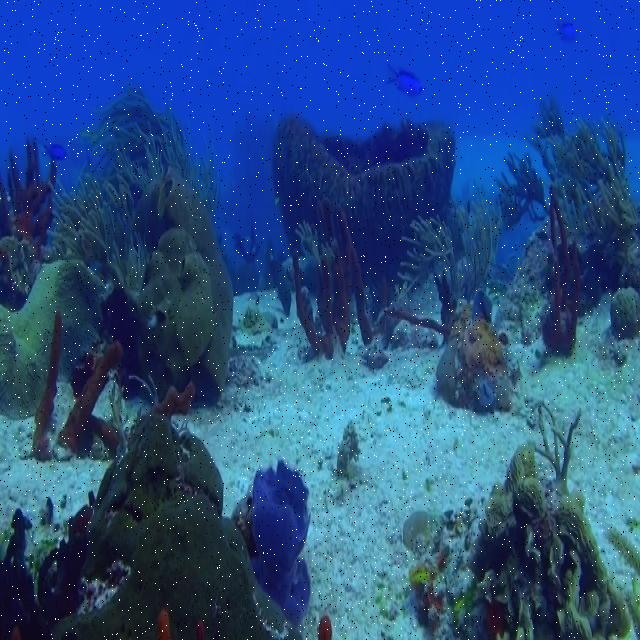aquatic plants: (497, 93, 636, 248)
fish: (386, 67, 423, 95), (554, 23, 578, 46)
reefs: (0, 387, 310, 639), (0, 91, 229, 414), (407, 412, 639, 637), (270, 116, 457, 280), (434, 282, 525, 410)
